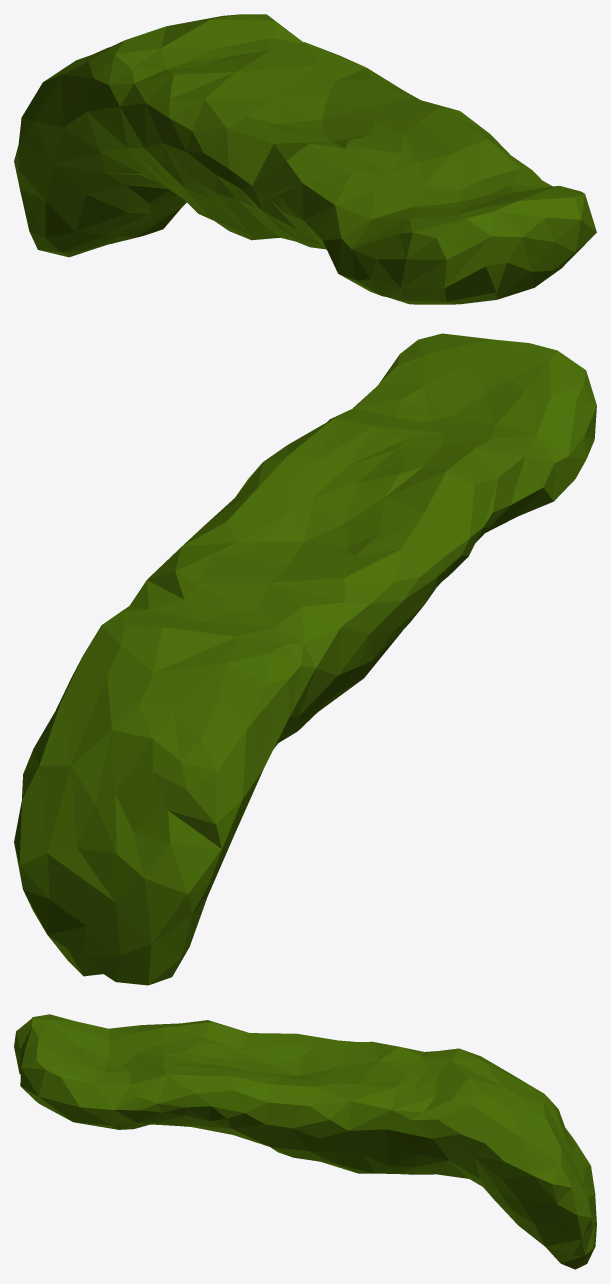
The model's file is 161-23a-area 23a of cortex-('0.3255', '0.4980', '0.0000').obj.
3 views of the same model, one above another, from view 1: azimuth 30°, elevation 25°; view 2: azimuth 150°, elevation 25°; view 3: azimuth 270°, elevation 25° (orthographic). The views are drawn at different scales.
Size of the model in its own units: 27.5 by 40.55 by 94.25.
